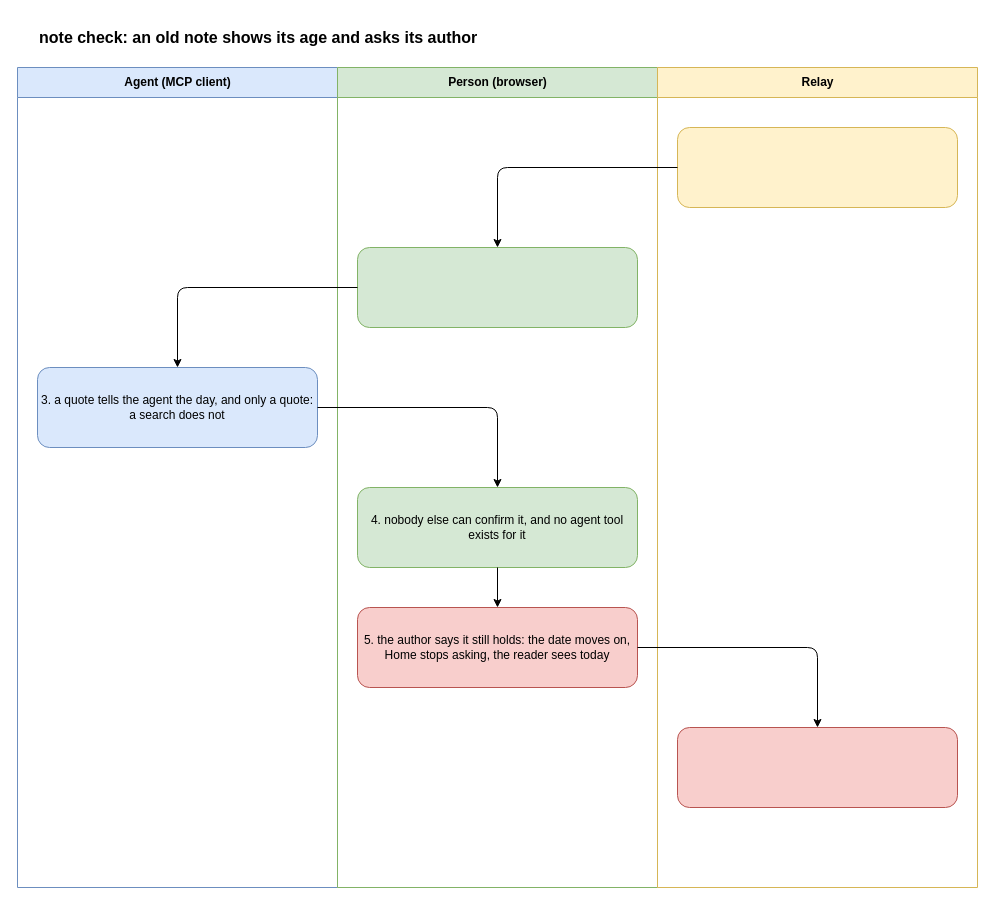
Image size: 995x905. Some labels were removed from this diagram. The shapes that lost their labels are listed below. From the top down, each one's centre as x and y in pixels, then its label:
[817,167]: 1. a new note asks nothing
[497,287]: 2. after 90 days Home asks its author, and the reader sees how old it is
[817,767]: 6. a retired note cannot be confirmed
